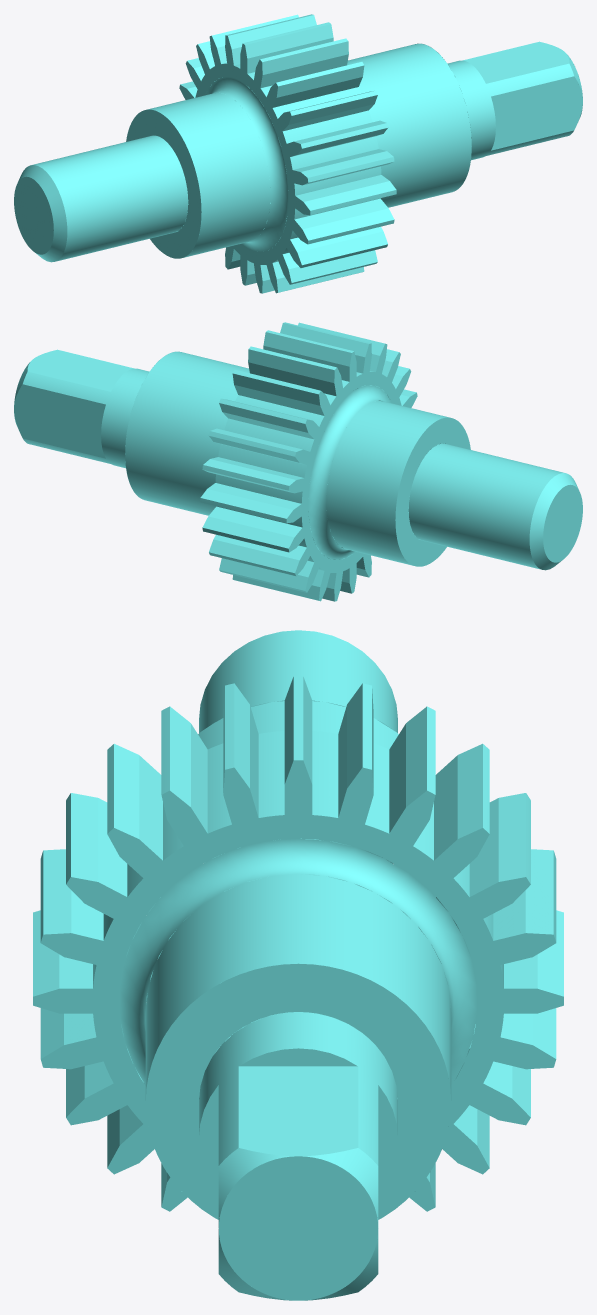
The picture shows the model from 3 angles, top to bottom: view 1: azimuth 30°, elevation 25°; view 2: azimuth 150°, elevation 25°; view 3: azimuth 270°, elevation 25°; orthographic projection. The views are drawn at different scales.
Parts seen in each view (by area): view 1: Part16.IGS (×47); view 2: Part16.IGS (×47); view 3: Part16.IGS (×54).
Part boxes in pixels (x1=…): Part16.IGS (×47): x1=14, y1=14, x2=582, y2=293; Part16.IGS (×47): x1=14, y1=322, x2=582, y2=601; Part16.IGS (×54): x1=33, y1=630, x2=563, y2=1300.
Size of the model in its own units: 0.092 by 0.04 by 0.04.
